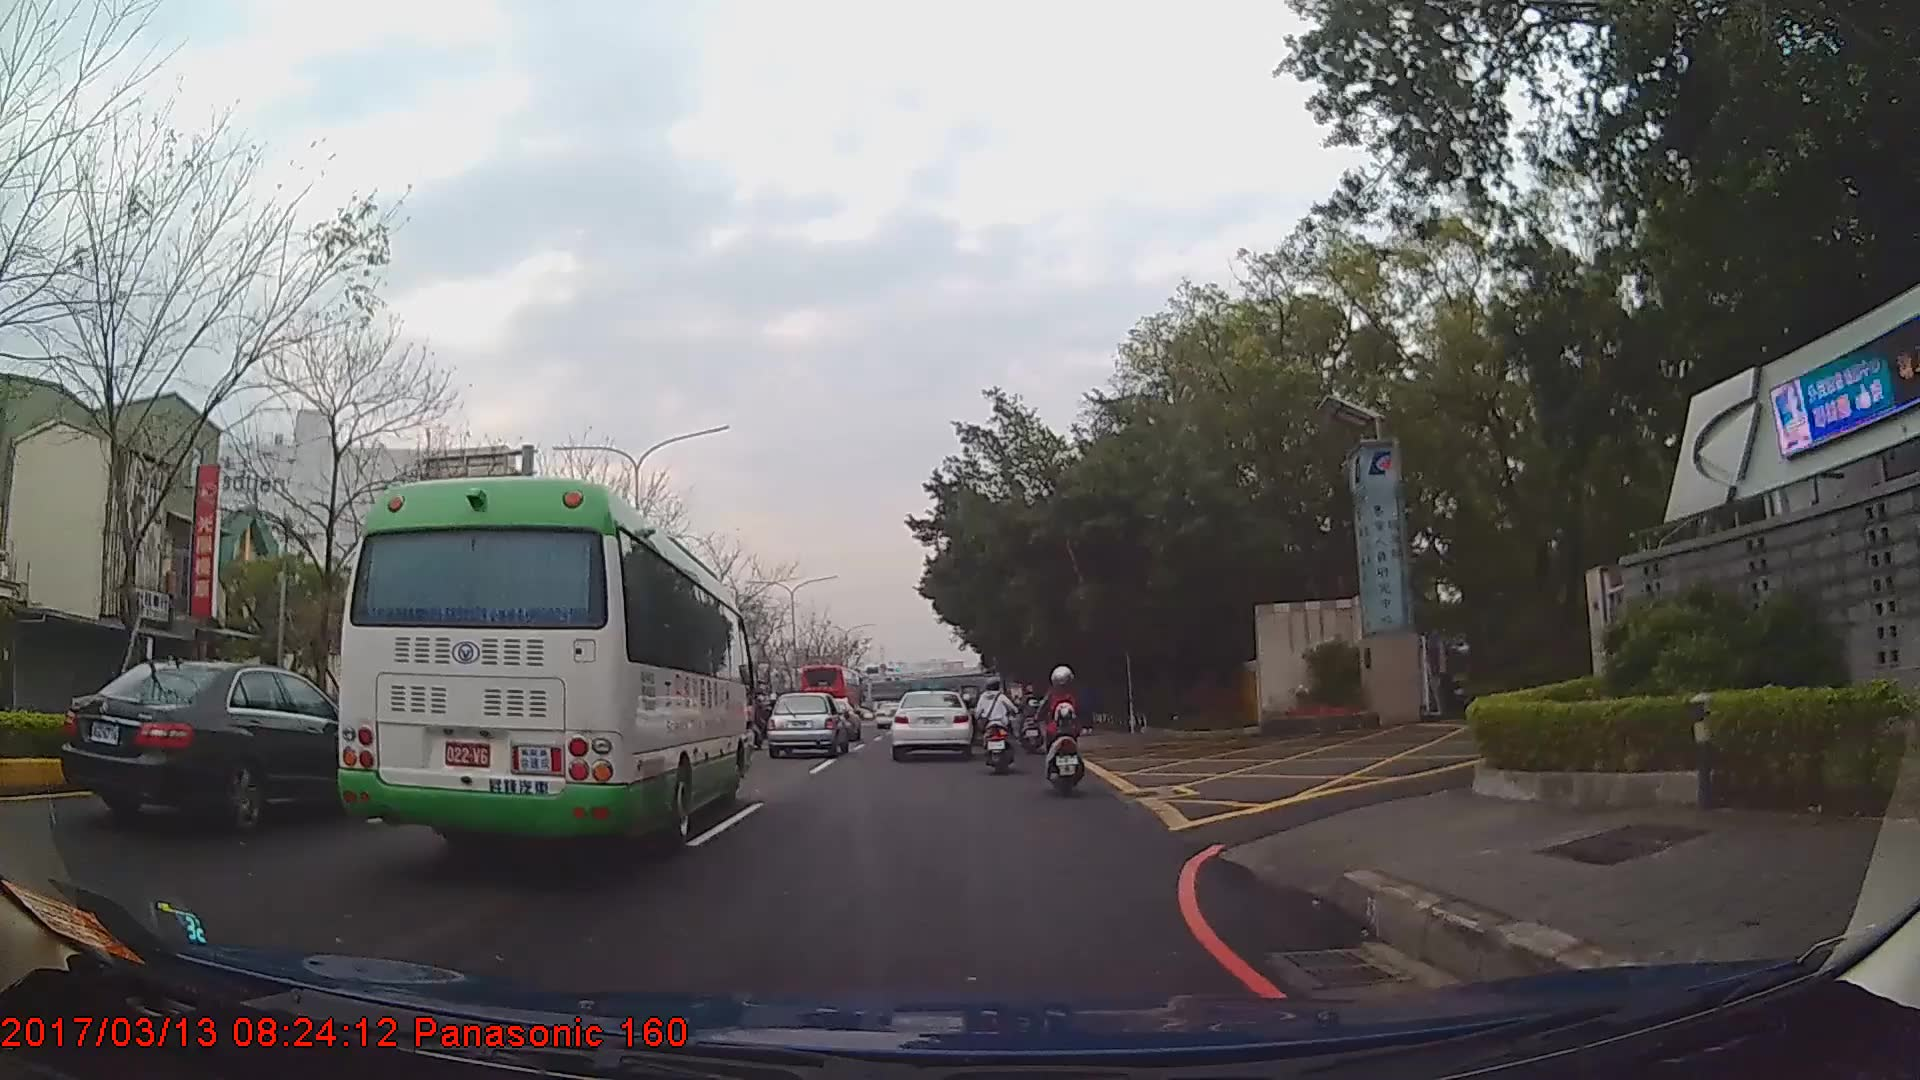rider: (1042, 665, 1086, 801), (973, 676, 1016, 773), (1018, 679, 1044, 751), (745, 688, 772, 742)
vehicle: (325, 469, 751, 855), (58, 654, 398, 831), (888, 686, 971, 759), (765, 689, 851, 756), (796, 658, 861, 723)
